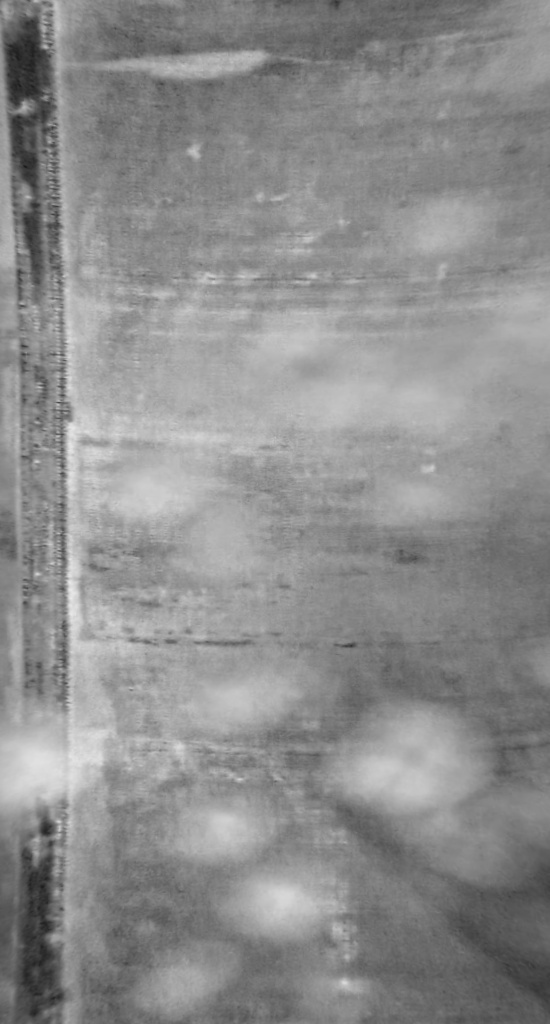splice: (1, 1, 91, 1024)
